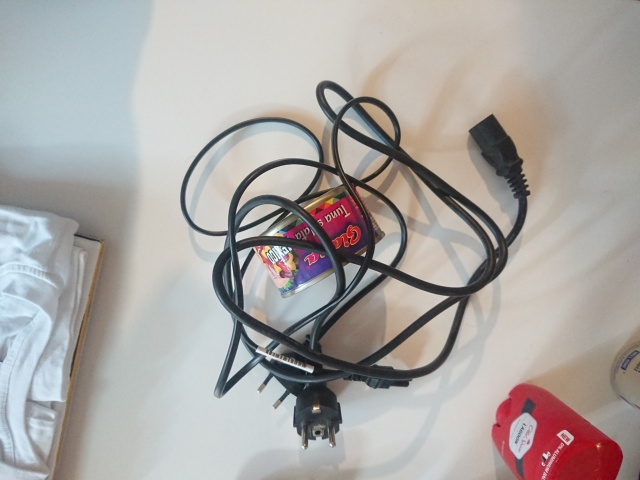Giana Tuna Salad Mexico 185g: (248, 179, 388, 300)
